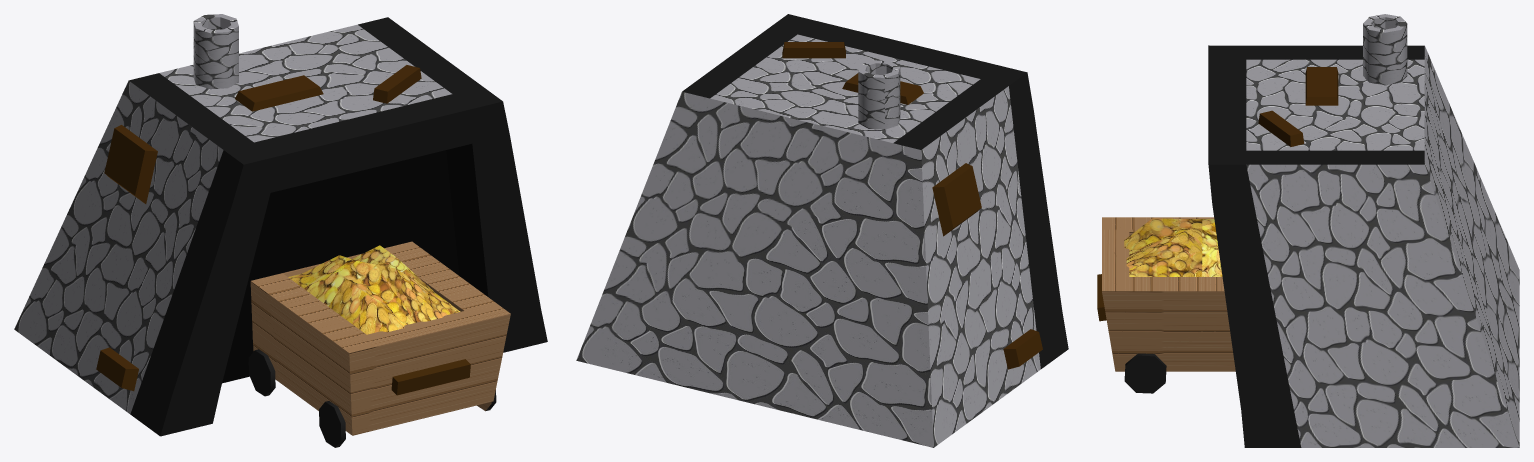
File: minaNvl2.fbx
3 renders of one model, left to right at view 1: azimuth 30°, elevation 25°; view 2: azimuth 150°, elevation 25°; view 3: azimuth 270°, elevation 25°, orthographic. The views are drawn at different scales.
Visible parts, largest first — view 1: MinaNVl003, Box013, Plane003, Cylinder019, MinaLvl2, Box017, Box018, Box015, Box019, Cylinder017, Cylinder018; view 2: MinaNVl003, Cylinder019, MinaLvl2, Box019, Box015, Box017; view 3: MinaNVl003, Box013, Plane003, Cylinder019, Cylinder016, Box017, Box019.
Part boxes in pixels (left/top/right/bottom): MinaNVl003: left=14, top=17, right=547, bottom=436; Box013: left=250, top=241, right=510, bottom=435; Plane003: left=288, top=245, right=460, bottom=334; Cylinder019: left=193, top=14, right=238, bottom=89; MinaLvl2: left=104, top=125, right=157, bottom=203; Box017: left=235, top=75, right=323, bottom=111; Box018: left=391, top=359, right=470, bottom=395; Box015: left=96, top=347, right=138, bottom=391; Box019: left=373, top=65, right=421, bottom=103; Cylinder017: left=248, top=349, right=275, bottom=396; Cylinder018: left=319, top=401, right=345, bottom=447; MinaNVl003: left=576, top=14, right=1068, bottom=447; Cylinder019: left=858, top=60, right=900, bottom=129; MinaLvl2: left=932, top=163, right=981, bottom=236; Box019: left=782, top=42, right=845, bottom=58; Box015: left=1003, top=329, right=1042, bottom=369; Box017: left=842, top=73, right=923, bottom=104; MinaNVl003: left=1208, top=45, right=1519, bottom=447; Box013: left=1102, top=217, right=1235, bottom=371; Plane003: left=1124, top=218, right=1222, bottom=276; Cylinder019: left=1363, top=14, right=1407, bottom=85; Cylinder016: left=1124, top=353, right=1166, bottom=393; Box017: left=1305, top=67, right=1338, bottom=105; Box019: left=1258, top=110, right=1304, bottom=146.
Bounding box in the file's own units: 1.52 × 1.51 × 1.21.
